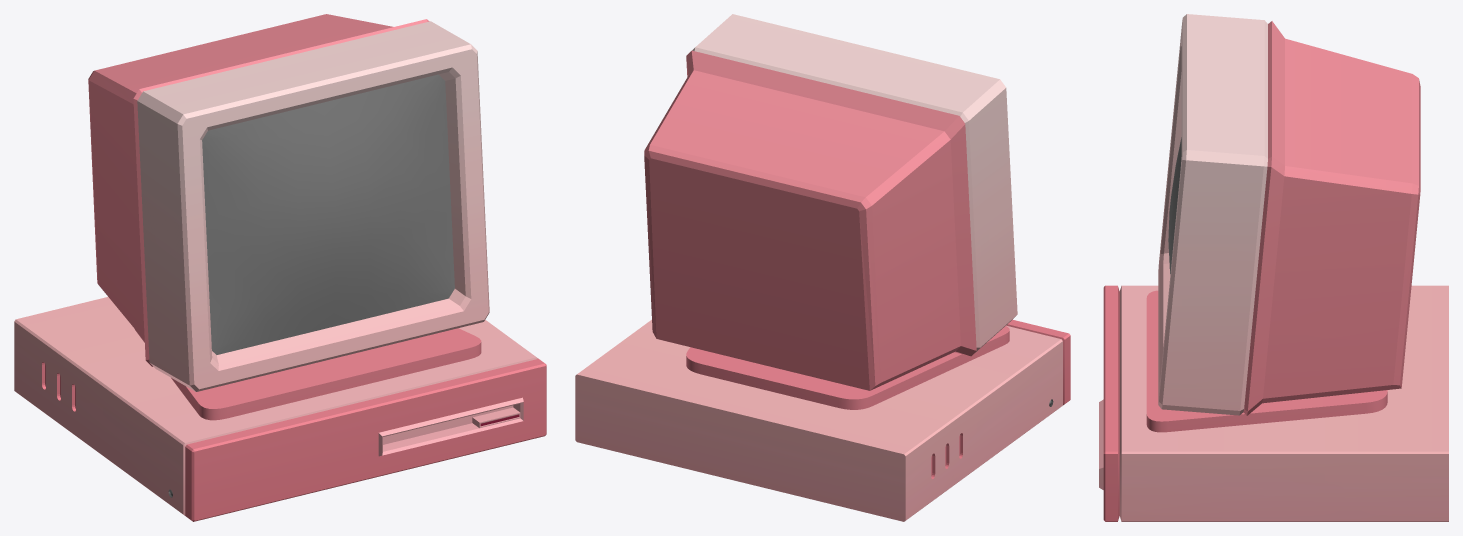
File: Doll_OB_Computer01.fbx
The picture shows the model from 3 angles, left to right: view 1: azimuth 30°, elevation 25°; view 2: azimuth 150°, elevation 25°; view 3: azimuth 270°, elevation 25°; orthographic projection. The views are drawn at different scales.
Visible parts, largest first — view 1: Doll_OB_Computer01, Doll_OB_Computer01_1; view 2: Doll_OB_Computer01; view 3: Doll_OB_Computer01, Doll_OB_Computer01_1.
Part boxes in pixels (<box>): Doll_OB_Computer01: <box>14,14,546,521</box>; Doll_OB_Computer01_1: <box>202,74,454,354</box>; Doll_OB_Computer01: <box>575,14,1070,521</box>; Doll_OB_Computer01: <box>1099,14,1448,521</box>; Doll_OB_Computer01_1: <box>1168,137,1181,273</box>.
Size of the model in its own units: 53.08 by 52.69 by 46.81.
2 materials, 1 textured.
